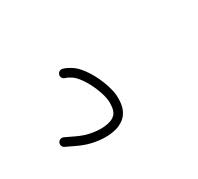a: (49, 58, 135, 160)
